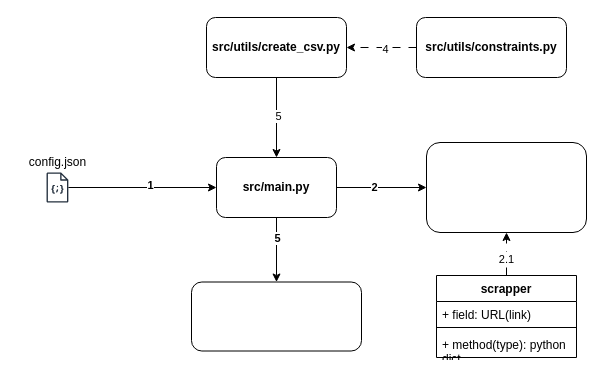
This 604x383 diagram has some shape labels left out. The shapes that lost their labels are listed below. From the top down, each one's centre as x and y in pixels, then its label:
the point at 506,187: src/services/data-scrapping/scrapper.py
the point at 276,316: src/output_csv/output.csv
